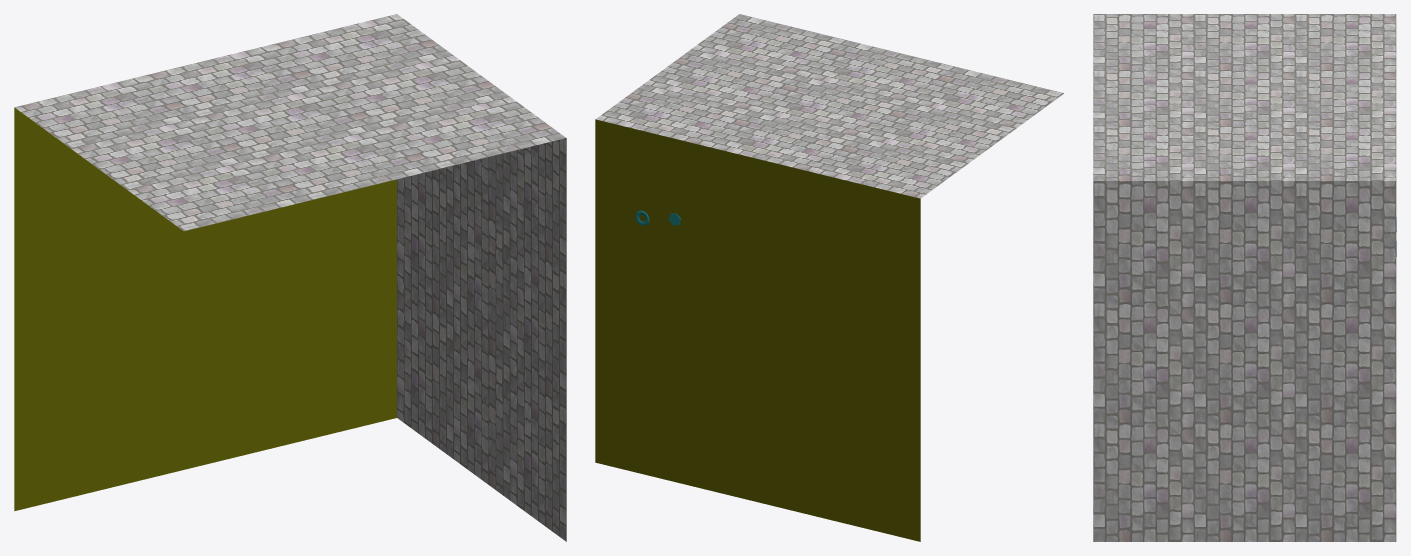
The model's file is transparenz_test2.obj.
3 renders of one model, left to right at view 1: azimuth 30°, elevation 25°; view 2: azimuth 150°, elevation 25°; view 3: azimuth 270°, elevation 25°, orthographic. The views are drawn at different scales.
Visible parts, largest first — view 1: Mesh.001_Room_Box; view 2: Mesh.001_Room_Box; view 3: Mesh.001_Room_Box.
Part boxes in pixels (box(x1,y1,x2,y2)): Mesh.001_Room_Box: box(14, 14, 566, 541); Mesh.001_Room_Box: box(595, 14, 1063, 541); Mesh.001_Room_Box: box(1093, 14, 1396, 541).
Size of the model in its own units: 16.84 by 16.99 by 12.95.
Materials: 3 (1 with a texture image).
